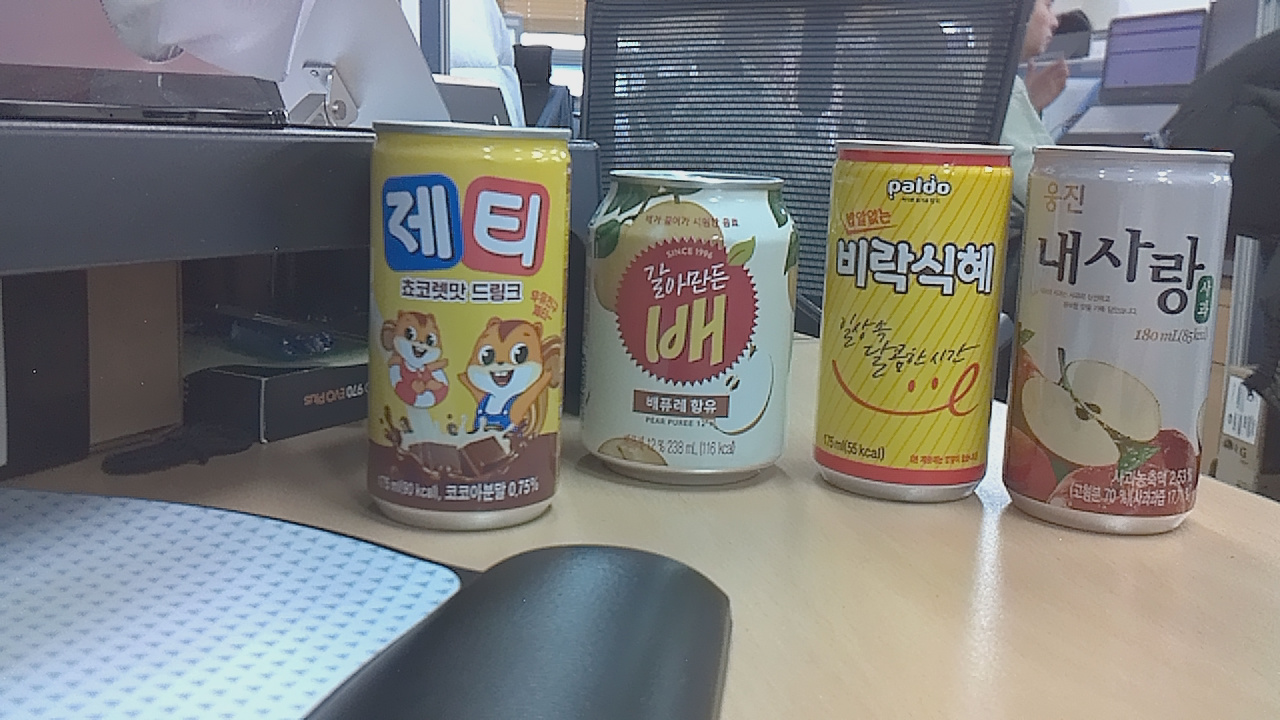IdH (pear juice): (595, 162, 798, 494)
jetty: (362, 112, 575, 545)
mylove apple: (1016, 125, 1240, 542)
paldo shikhye: (808, 104, 1011, 521)
